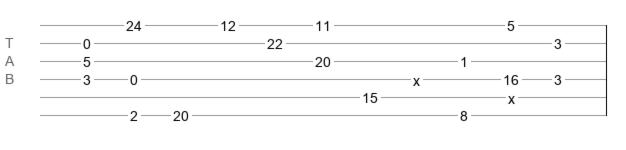0: (83, 36, 91, 46), (130, 72, 138, 82)
1: (460, 54, 468, 64)
11: (315, 18, 331, 28)
12: (220, 18, 236, 28)
15: (362, 90, 378, 100)
16: (503, 72, 519, 82)
2: (130, 108, 138, 118)
20: (173, 108, 189, 118), (315, 54, 331, 64)
22: (267, 36, 283, 46)
24: (126, 18, 142, 28)
3: (83, 72, 91, 82), (554, 36, 562, 46), (554, 72, 562, 82)
5: (83, 54, 91, 64), (507, 18, 515, 28)
8: (460, 108, 468, 118)
x: (413, 73, 420, 81), (508, 91, 515, 99)
